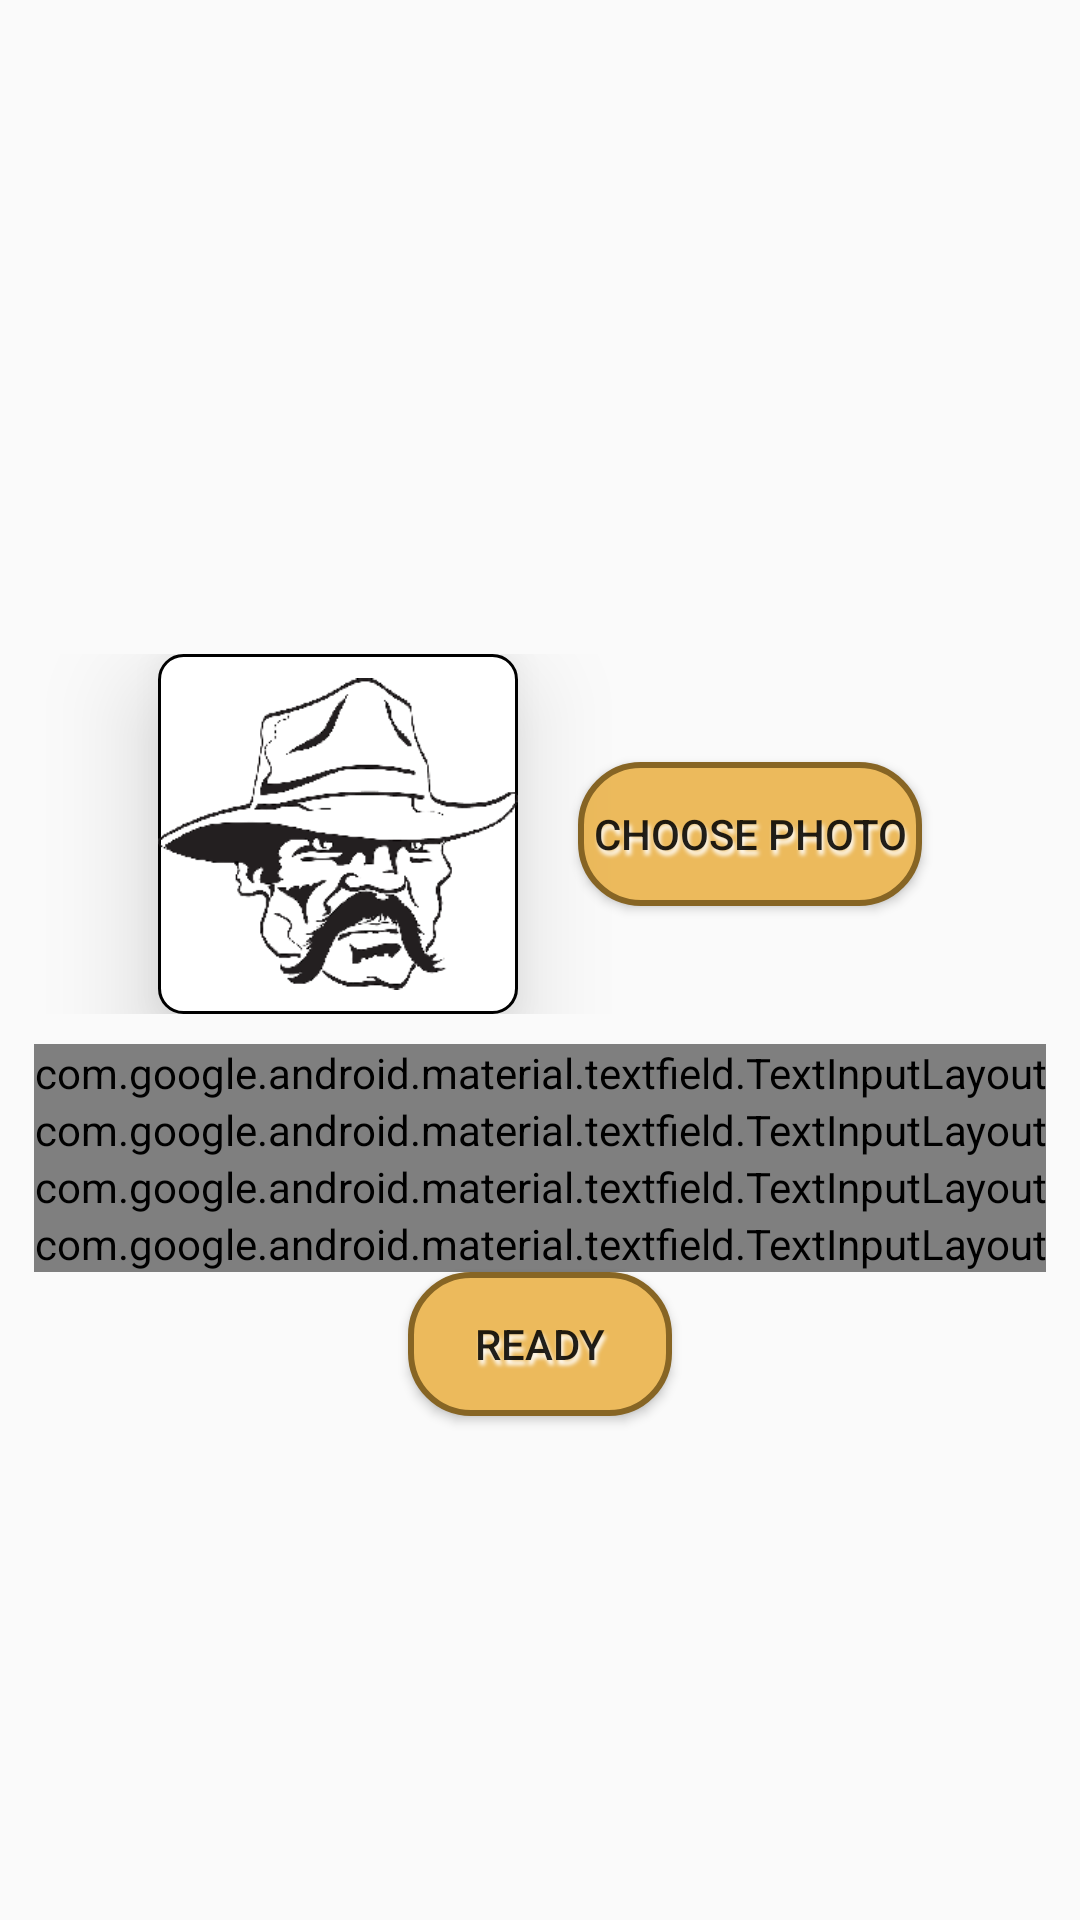

Icons on this 1080 × 1920 Android screen, each with the point to tap as [x,y]:
cowboy: [338,834]
